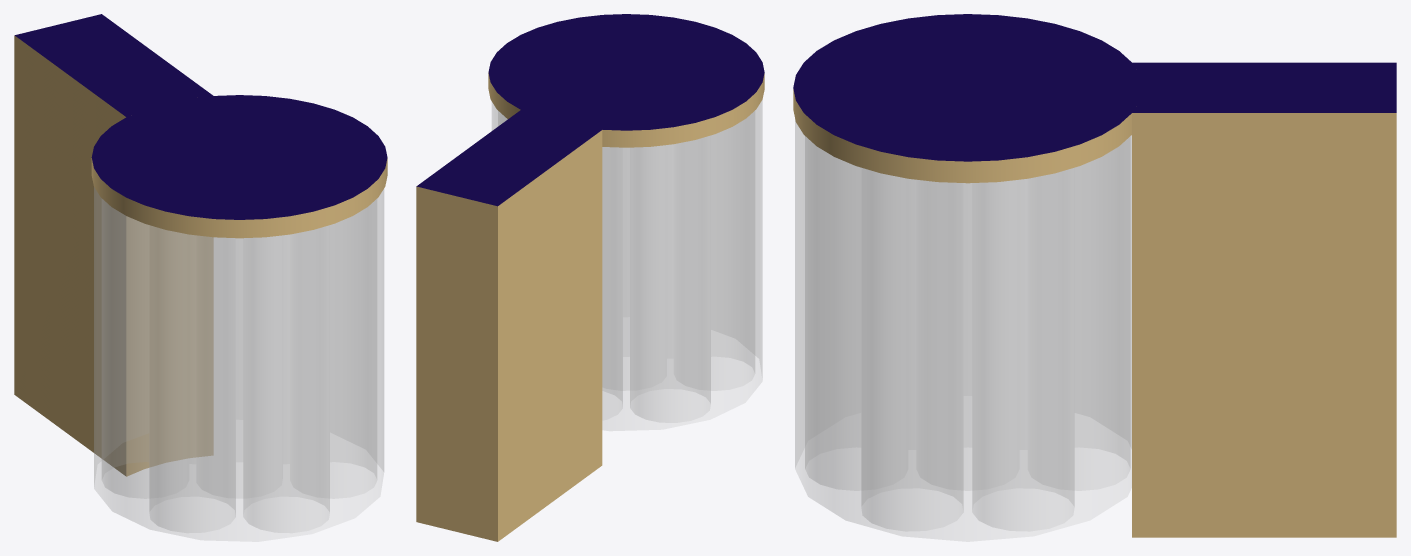
File: stacker.glb
The picture shows the model from 3 angles, left to right: view 1: azimuth 30°, elevation 25°; view 2: azimuth 150°, elevation 25°; view 3: azimuth 270°, elevation 25°; orthographic projection. The views are drawn at different scales.
Parts seen in each view (by area): view 1: support, arm-protection, base, arm-protection-lid; view 2: arm-protection, support, base, arm-protection-lid; view 3: support, arm-protection, base, arm-protection-lid.
Part boxes in pixels (box(x1,y1,x2,y2)): support: box(94, 187, 383, 541); arm-protection: box(14, 14, 213, 476); base: box(91, 95, 387, 238); arm-protection-lid: box(27, 20, 206, 114); arm-protection: box(416, 110, 602, 541); support: box(492, 100, 762, 430); base: box(488, 14, 764, 147); arm-protection-lid: box(428, 112, 595, 200); support: box(795, 120, 1131, 541); arm-protection: box(1132, 62, 1396, 537); base: box(793, 14, 1142, 183); arm-protection-lid: box(1134, 66, 1380, 109).
Size of the model in its own units: 0.22 by 0.295 by 0.38.
